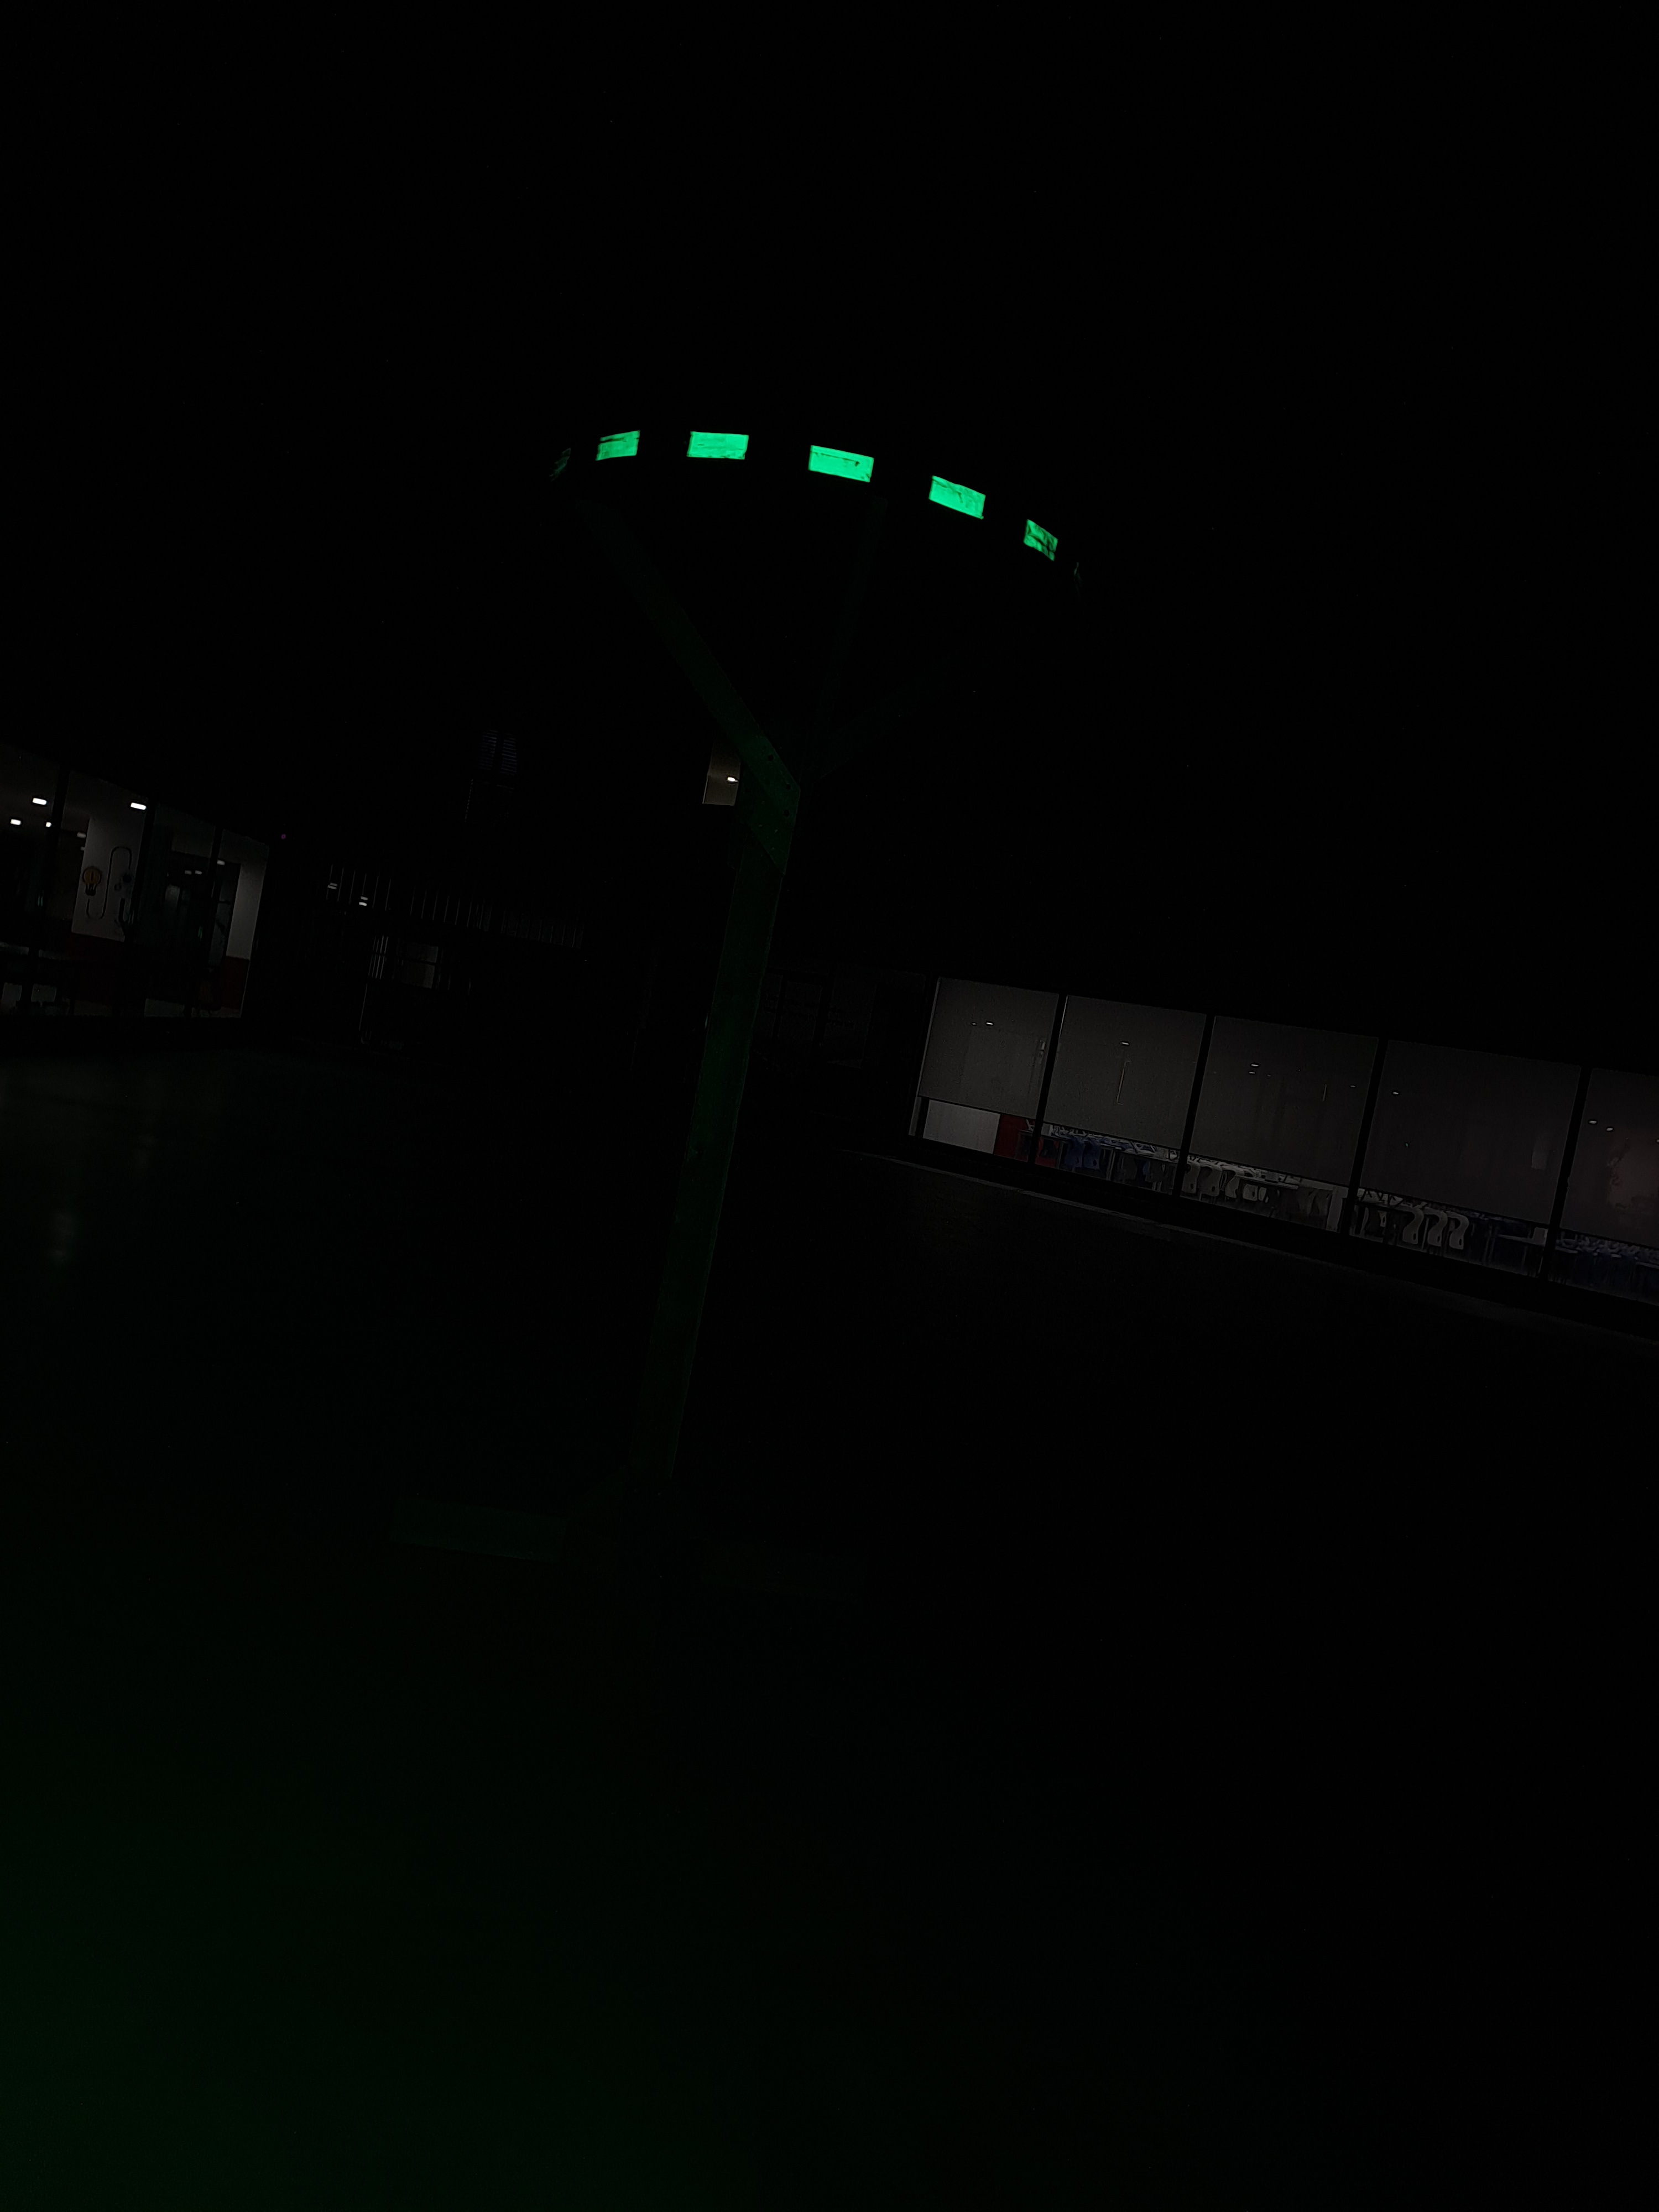hoop: (580, 415, 1065, 573)
